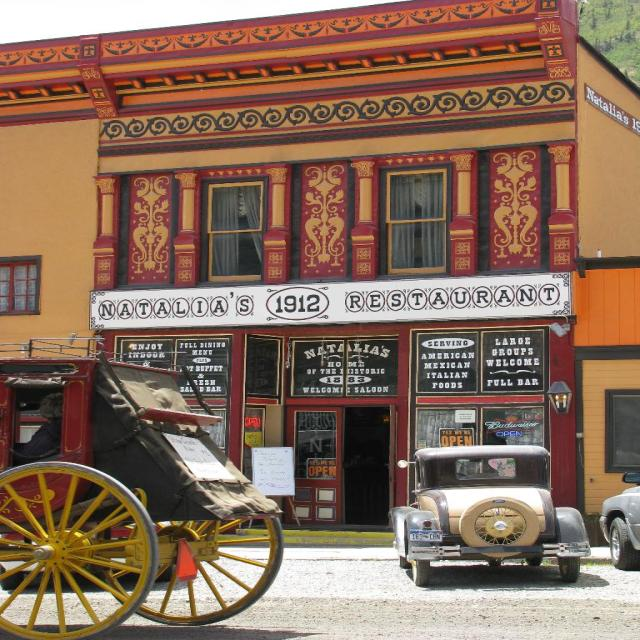car: (389, 445, 589, 586)
